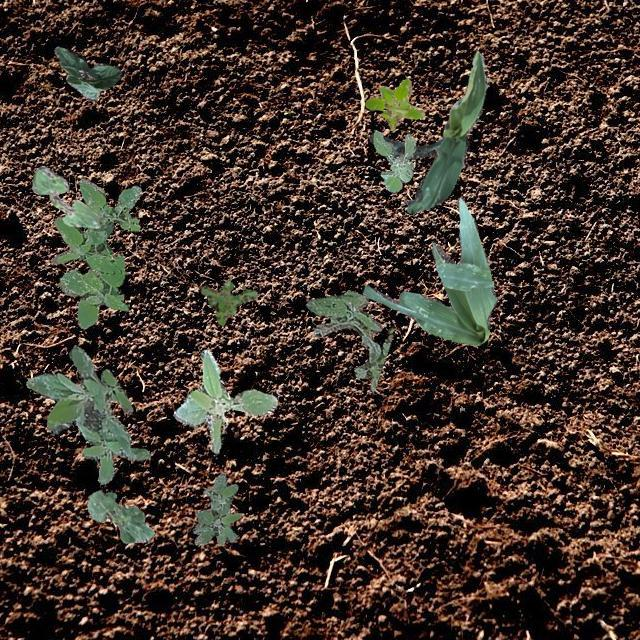crop: (362, 198, 496, 344), (368, 49, 488, 212), (31, 164, 100, 227), (54, 46, 120, 100), (86, 490, 152, 542)
weed: (24, 344, 150, 484), (50, 178, 140, 328), (172, 348, 276, 452), (306, 290, 392, 390), (192, 472, 240, 544), (364, 76, 424, 128), (372, 128, 414, 190), (200, 280, 256, 324)
